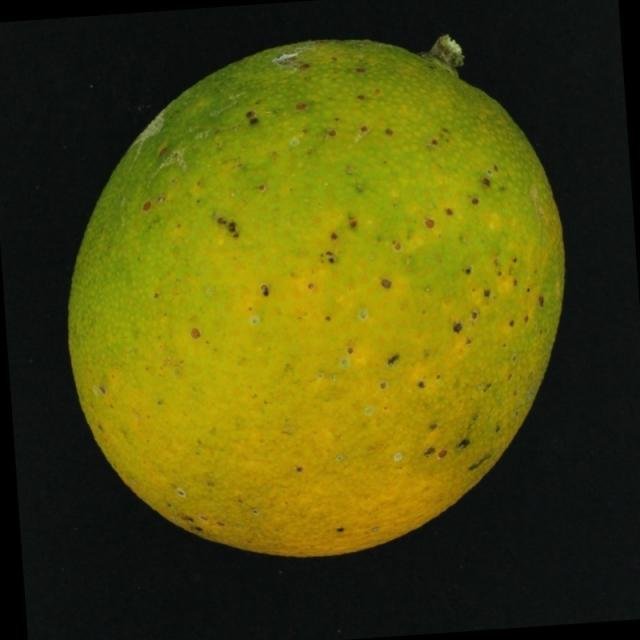grenning: (36, 30, 581, 572)
